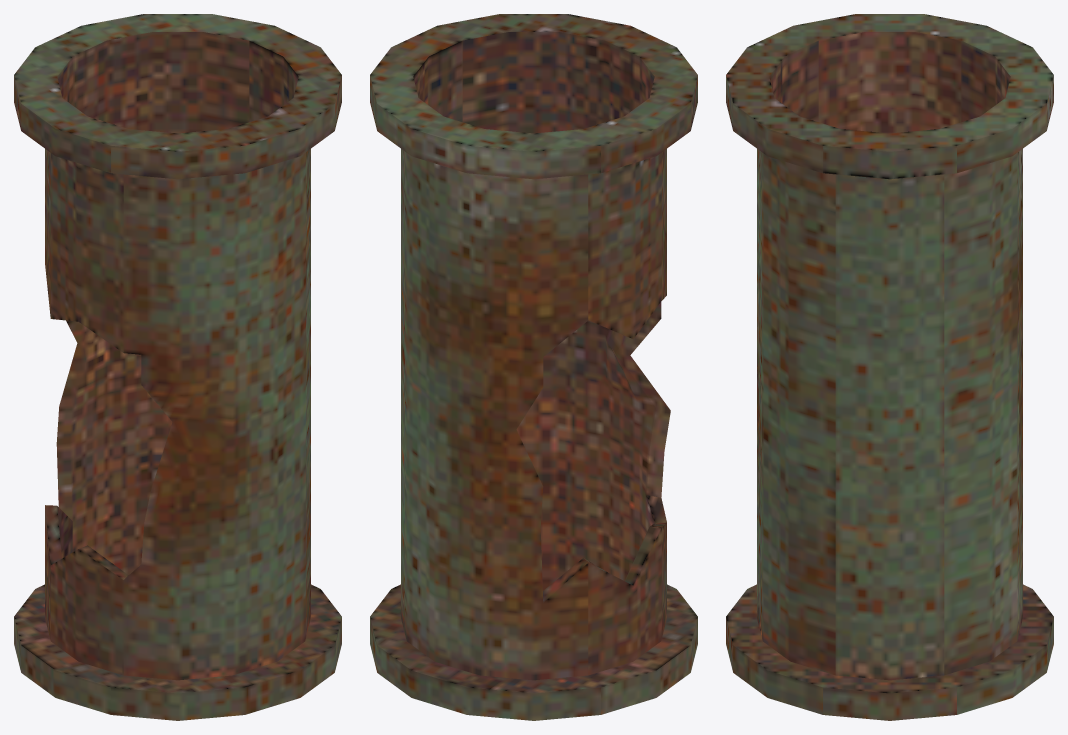
File: Pipe_Set_4_4.glb
3 renders of one model, left to right at view 1: azimuth 30°, elevation 25°; view 2: azimuth 150°, elevation 25°; view 3: azimuth 270°, elevation 25°, orthographic.
Visible parts, largest first — view 1: Pipe_Set_4_4; view 2: Pipe_Set_4_4; view 3: Pipe_Set_4_4.
Boxes of the visible parts, bbox=[...] form: Pipe_Set_4_4: bbox=[14, 14, 341, 720]; Pipe_Set_4_4: bbox=[370, 14, 697, 720]; Pipe_Set_4_4: bbox=[726, 14, 1053, 720].
Size of the model in its own units: 0.2686 by 0.5173 by 0.2701.
Materials: 1 (1 with a texture image).
